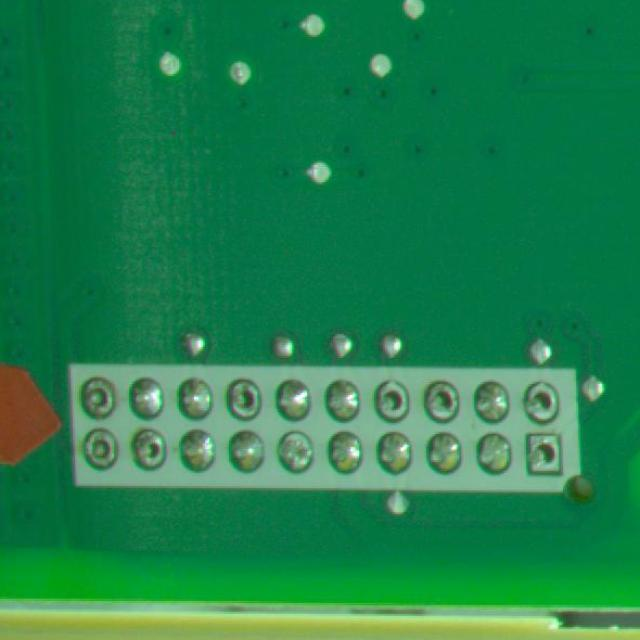Insufficient solder: (418, 376, 468, 426), (522, 380, 568, 426), (374, 378, 414, 429), (524, 431, 564, 482), (132, 425, 172, 473), (80, 374, 120, 419), (82, 426, 120, 470), (228, 378, 262, 424)
